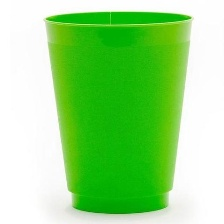glass: (42, 4, 202, 217)
